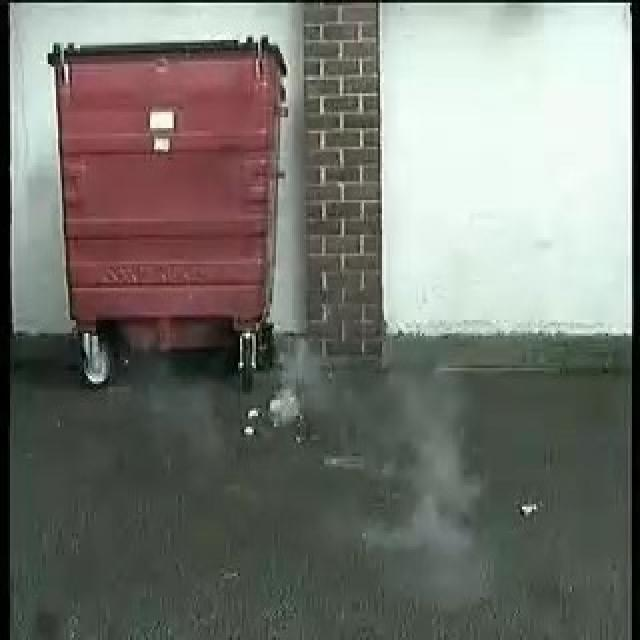smoke: (264, 355, 321, 447)
